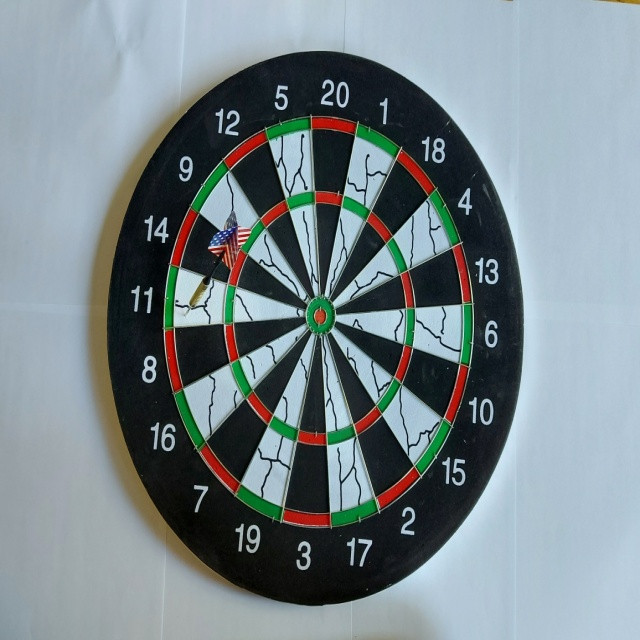Dart: (180, 207, 253, 318)
